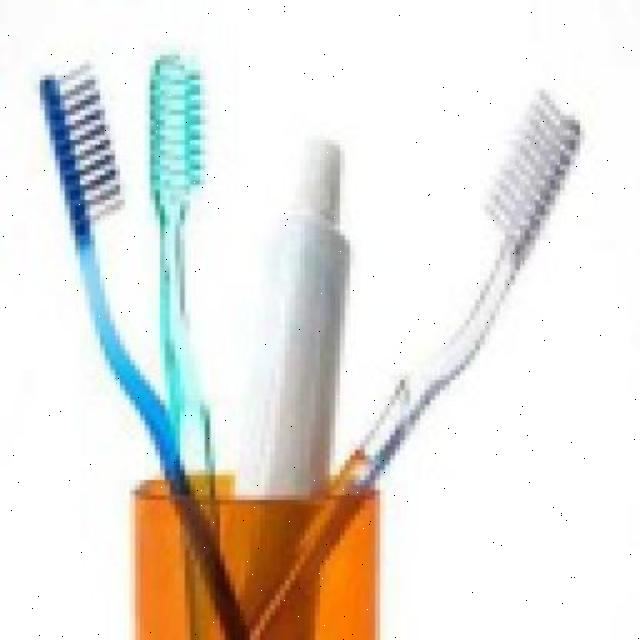toothbrush: (24, 32, 286, 616), (397, 60, 633, 472)
